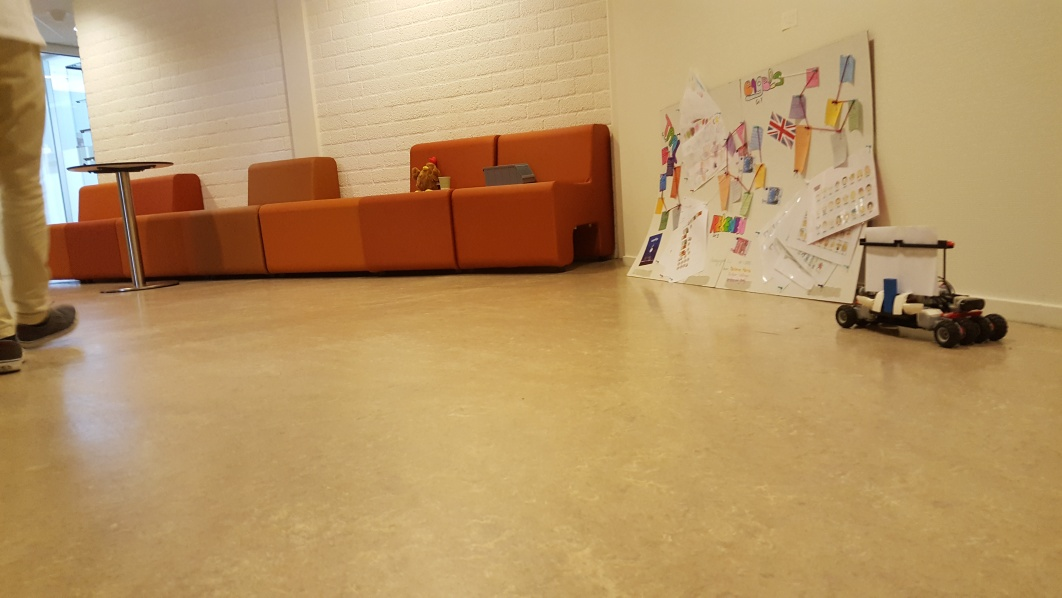beam: (881, 276, 897, 316)
chicken: (412, 155, 440, 193)
cup: (435, 174, 454, 190)
tray: (483, 164, 538, 187)
